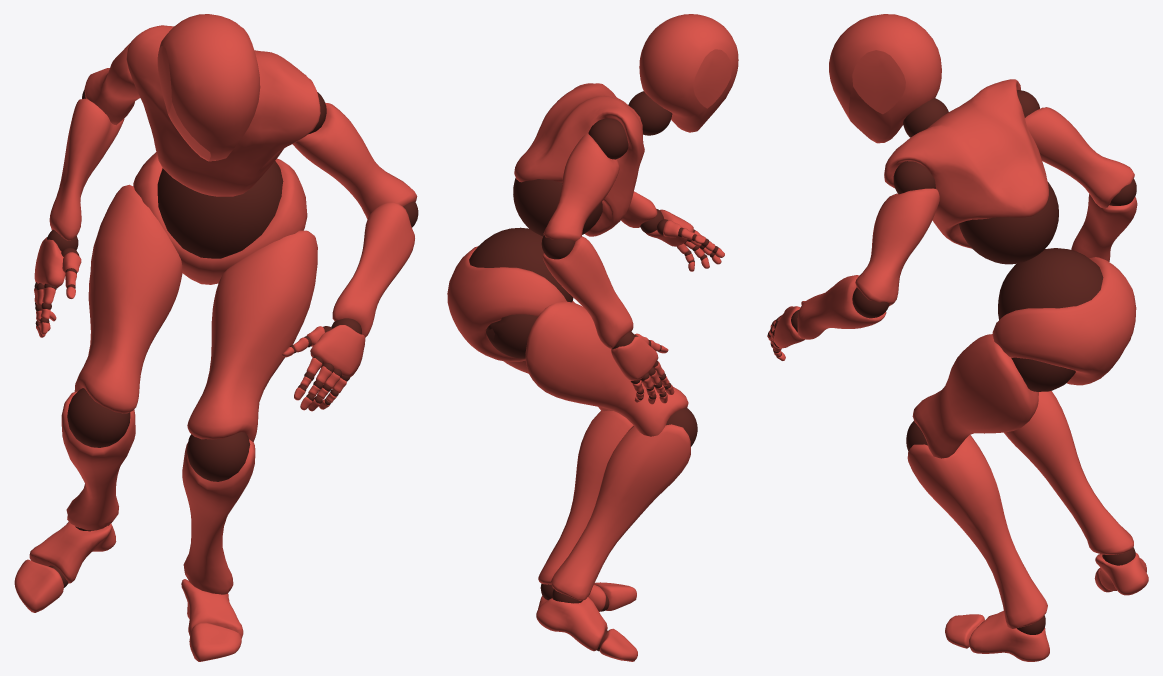
The picture shows the model from 3 angles, left to right: view 1: azimuth 30°, elevation 25°; view 2: azimuth 150°, elevation 25°; view 3: azimuth 270°, elevation 25°; orthographic projection. The views are drawn at different scales.
Visible parts, largest first — view 1: Beta_Surface, Beta_Joints; view 2: Beta_Surface, Beta_Joints; view 3: Beta_Surface, Beta_Joints.
Part boxes in pixels (x1,y1,x2,y2): Beta_Surface: (14, 14, 417, 661); Beta_Joints: (34, 89, 418, 587); Beta_Surface: (447, 14, 738, 661); Beta_Joints: (469, 91, 718, 651); Beta_Surface: (767, 14, 1148, 661); Beta_Joints: (768, 90, 1136, 634).
Bounding box in the file's own units: 0.6012 × 1.43 × 0.8178.
